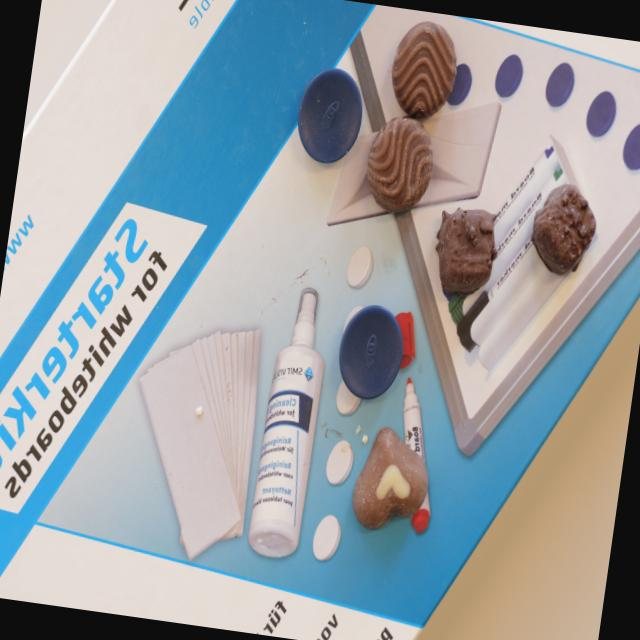Noir_authentique: (362, 113, 439, 218), (387, 16, 463, 122)
Passion_au_lait: (348, 424, 437, 537)
Tentation_noir: (528, 180, 602, 280), (430, 202, 500, 303)
